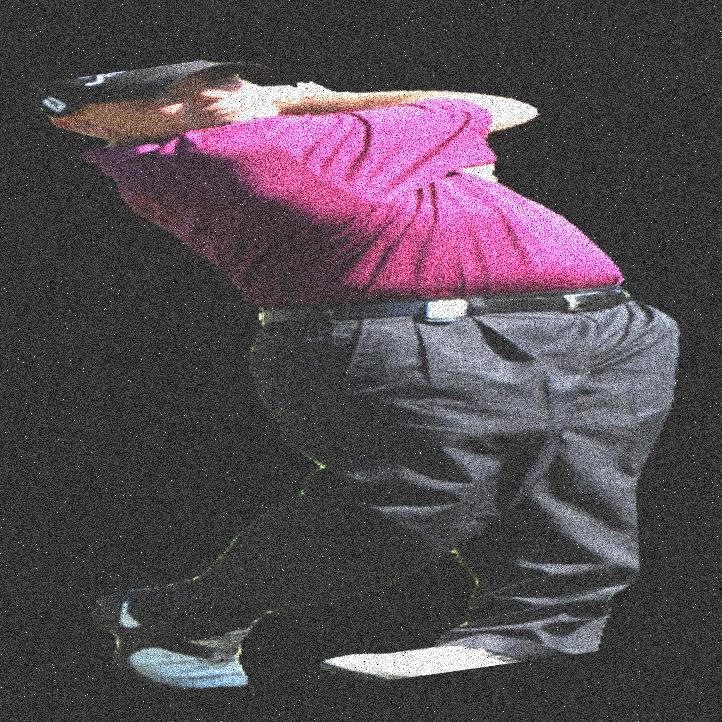Pessoa: (218, 0, 619, 721)
